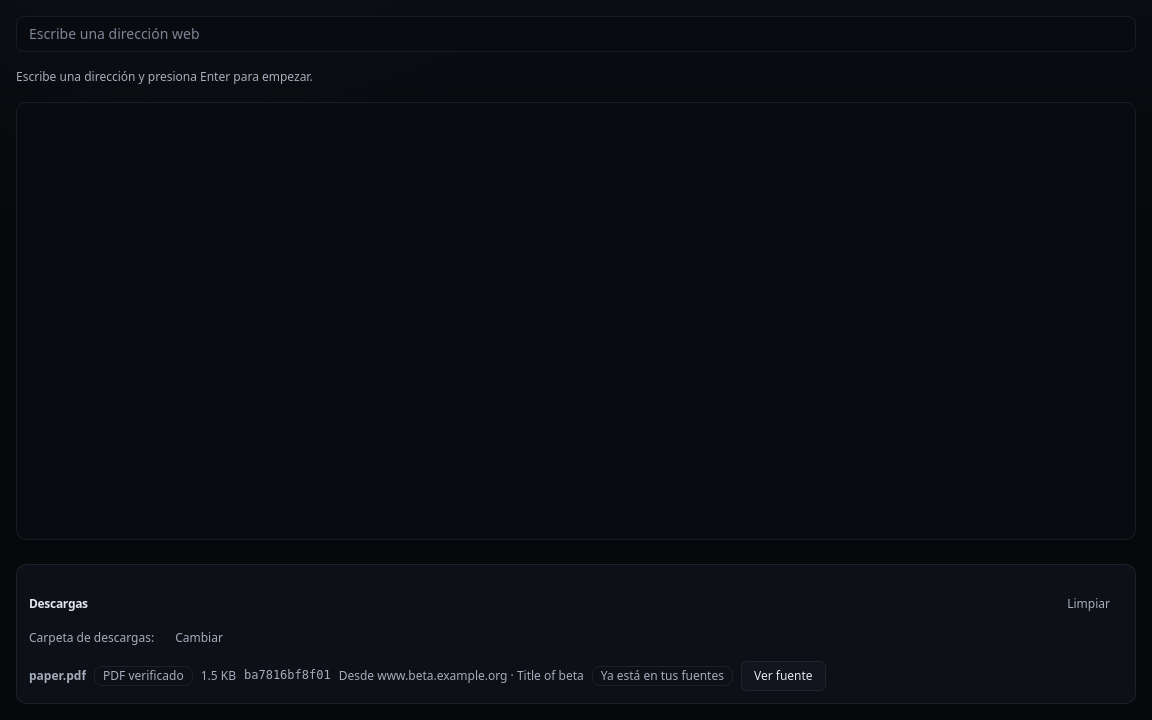
Test: a download that is already in the sources › shows the source that holds it in the saved-sources drawer
The image size is (1152, 720).
Click the button with aria-label "Ver la fuente que ya guarda paper.pdf". click: (783, 676)
box: [741,661,826,691]
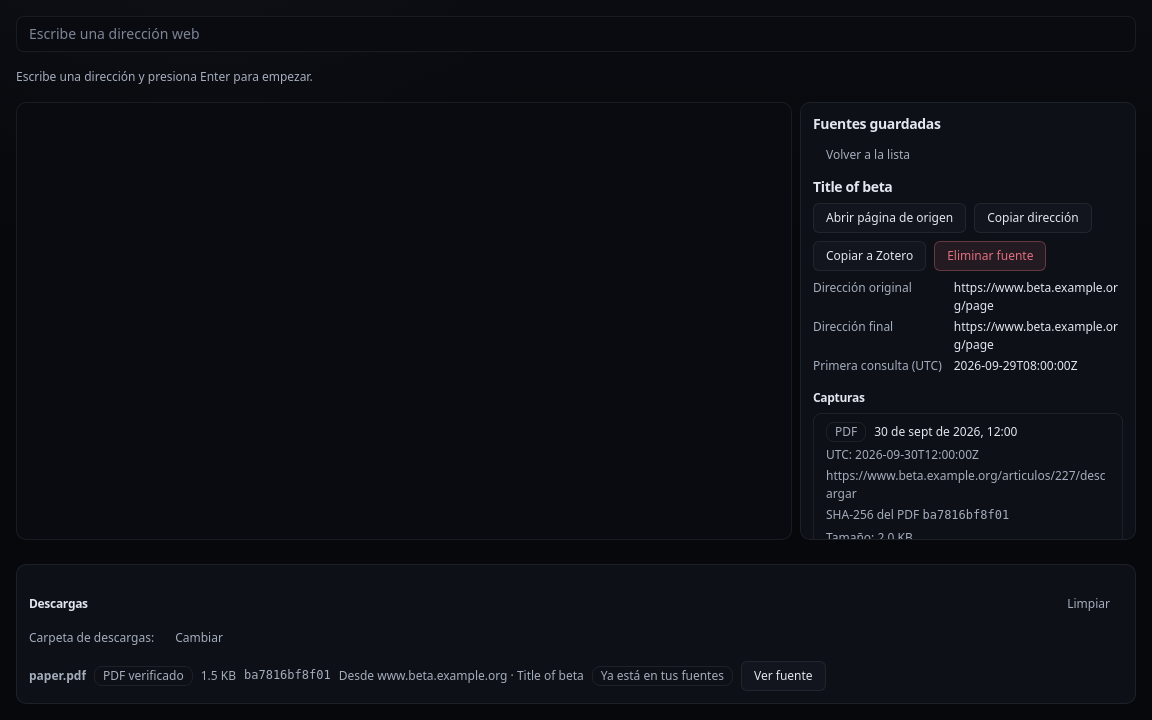
Expected: the button "Volver a la lista" is shown, [813,140,923,170]
Expected: the heading "Title of beta" is shown, [813,177,892,196]
